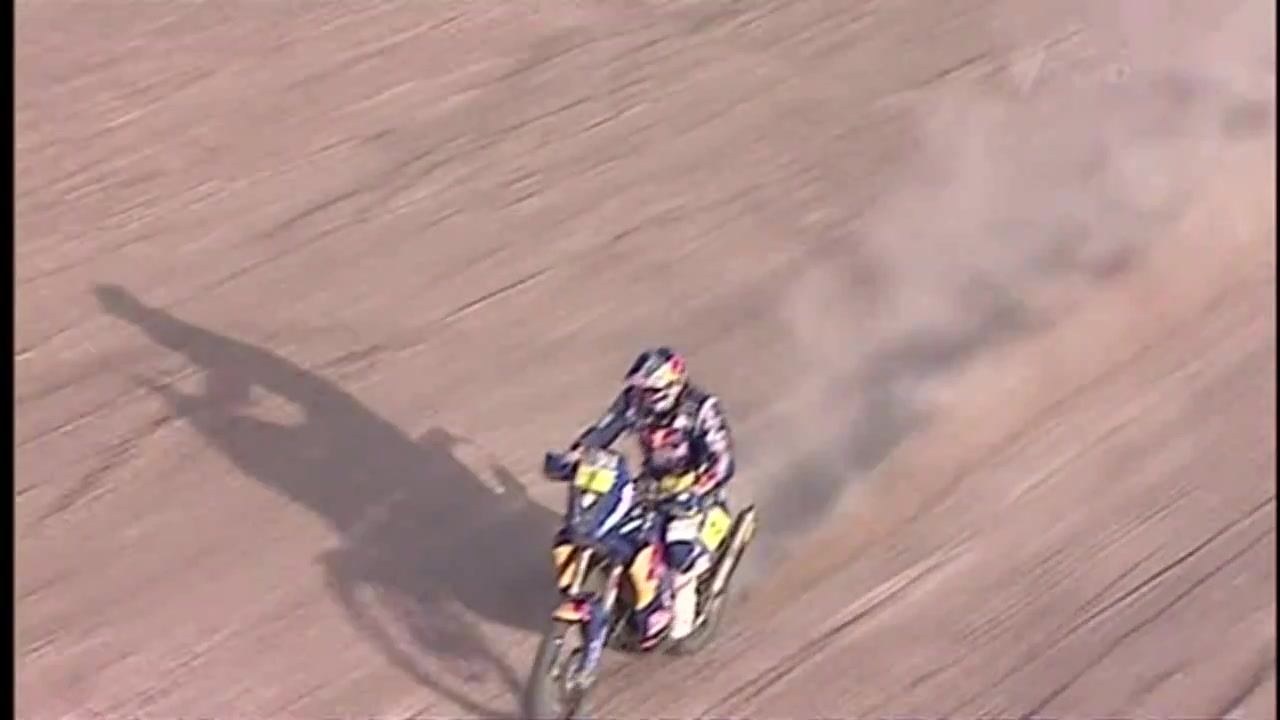motorbike: (521, 450, 762, 720)
